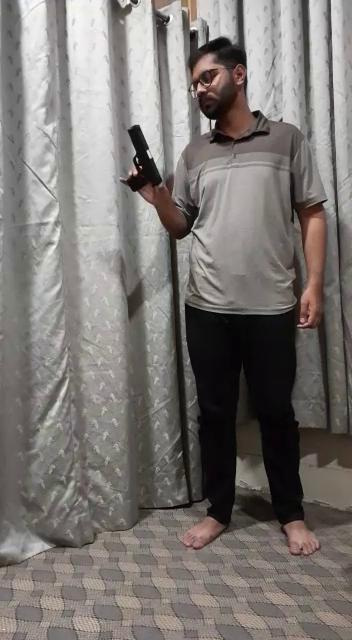criminal: (116, 33, 332, 560)
weapon: (117, 119, 166, 196)
